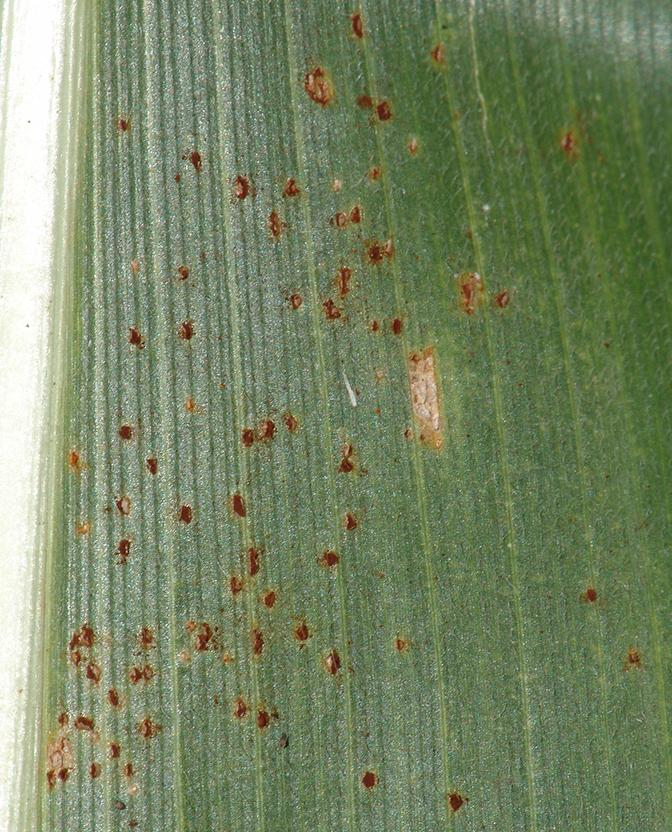Corn rust leaf: (9, 2, 670, 820)
